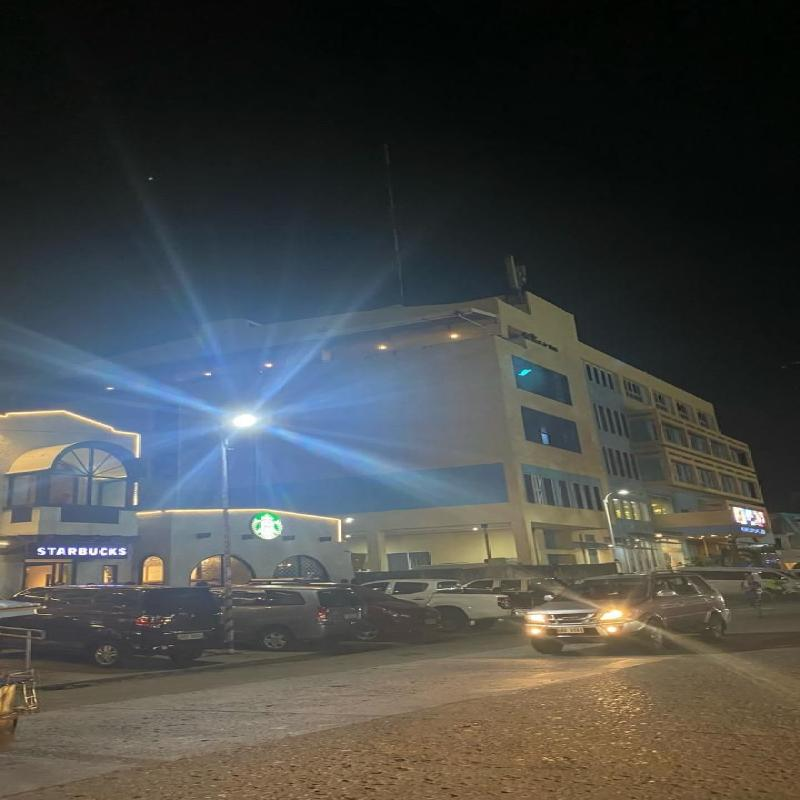license plate on a car: (176, 632, 204, 640), (557, 627, 584, 633), (344, 613, 357, 619), (425, 619, 437, 624)
